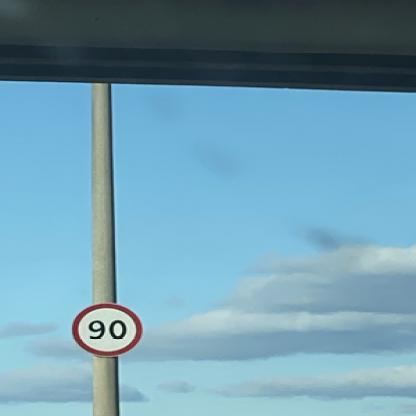speedlimit: (68, 300, 140, 354)
